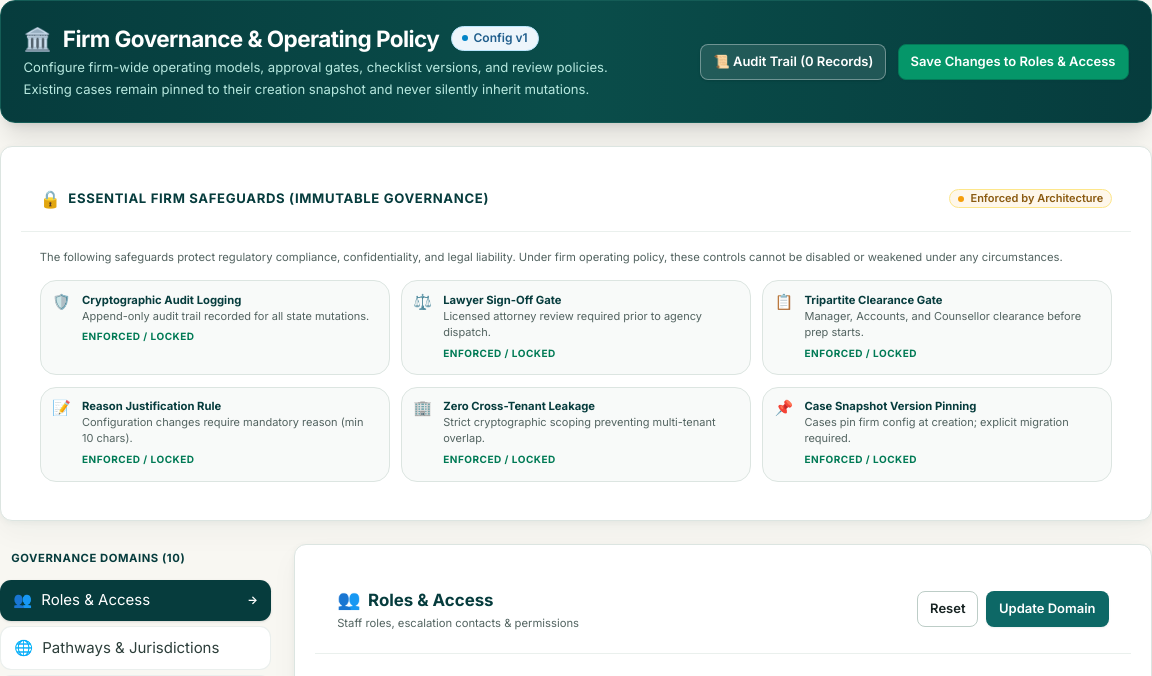
Test: Phase 9 — Firm Configuration and Approval Gates › FirmConfigurationHub Component › opens and displays the firm configuration audit trail modal
Step 1. Click the button "📜 Audit Trail (0 Records)" → (793, 62), box [700, 44, 886, 80]
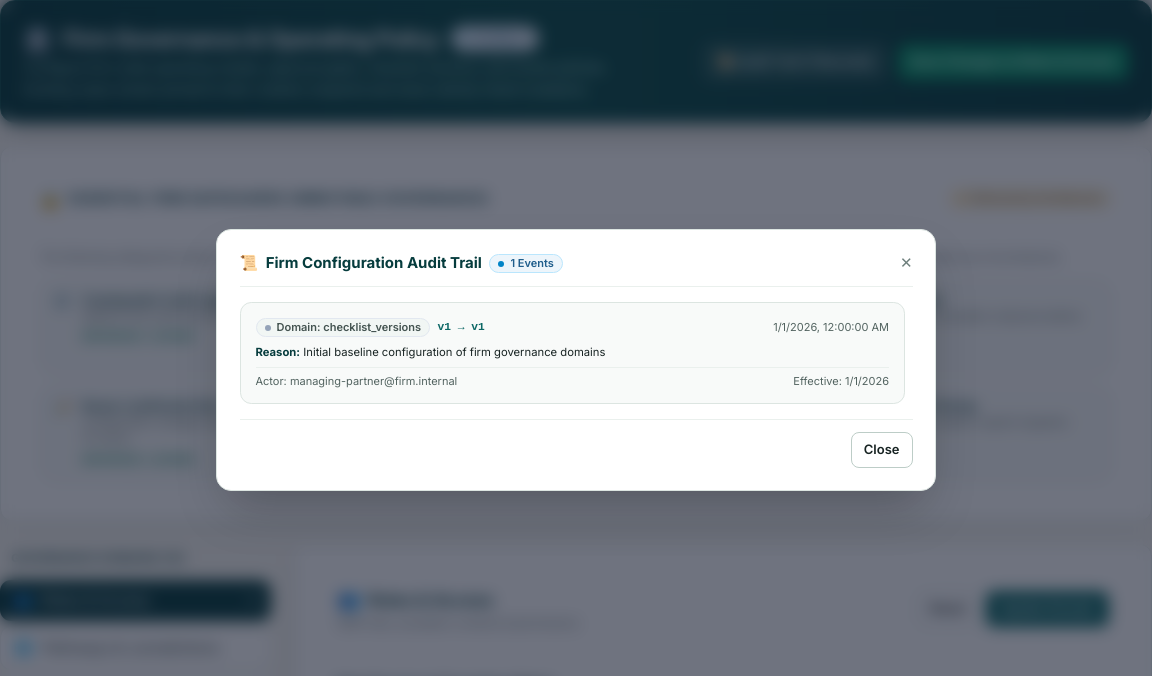
Expected: the heading "Firm Configuration Audit Trail" is shown, [266, 252, 482, 275]
